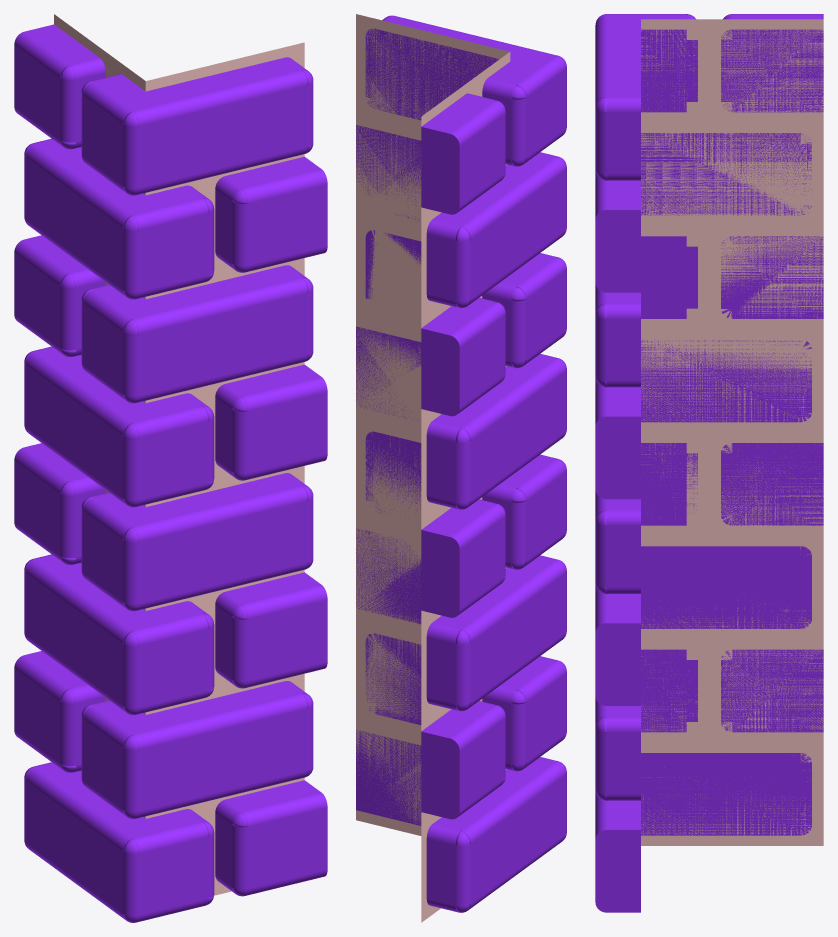
File: convex_1.dae
The picture shows the model from 3 angles, left to right: view 1: azimuth 30°, elevation 25°; view 2: azimuth 150°, elevation 25°; view 3: azimuth 270°, elevation 25°; orthographic projection. The views are drawn at different scales.
Parts seen in each view (by area): view 1: corner_convex_2 (×8), brick_half (×8), group_2 (×8), group_10 (×4), group_19 (×8), group_3 (×8), group_18 (×4), group_7 (×4), group_8 (×4), group_14 (×5), group_15 (×4), group_6 (×4); view 2: corner_convex_2 (×8), brick_half (×8), group_8 (×8), group_14 (×5), group_2 (×4), group_15 (×4), group_9 (×4), group_5 (×4), group_6 (×4), group_10 (×4), group_13 (×4), group_11 (+1 smaller); view 3: corner_convex_2 (×8), brick_half (×8), group_8 (×4), group_14 (×4), group_1 (×4), group_9 (×4), group_4 (×4), group_18 (×4), group_10.
Part boxes in pixels (x1=…): corner_convex_2 (×8): x1=26, y1=57, x2=307, y2=915; brick_half (×8): x1=14, y1=24, x2=327, y2=888; group_2 (×8): x1=26, y1=144, x2=307, y2=851; group_10 (×4): x1=133, y1=70, x2=307, y2=749; group_19 (×8): x1=60, y1=78, x2=248, y2=889; group_3 (×8): x1=123, y1=124, x2=138, y2=916; group_18 (×4): x1=242, y1=169, x2=327, y2=826; group_7 (×4): x1=133, y1=198, x2=208, y2=853; group_8 (×4): x1=145, y1=42, x2=304, y2=714; group_14 (×5): x1=54, y1=14, x2=304, y2=895; group_15 (×4): x1=14, y1=31, x2=69, y2=700; group_6 (×4): x1=83, y1=82, x2=132, y2=747; corner_convex_2 (×8): x1=365, y1=16, x2=565, y2=905; brick_half (×8): x1=356, y1=94, x2=504, y2=825; group_8 (×8): x1=356, y1=14, x2=509, y2=922; group_14 (×5): x1=356, y1=76, x2=476, y2=835; group_2 (×4): x1=461, y1=157, x2=565, y2=843; group_15 (×4): x1=450, y1=101, x2=504, y2=750; group_9 (×4): x1=455, y1=239, x2=470, y2=906; group_5 (×4): x1=511, y1=98, x2=526, y2=764; group_6 (×4): x1=517, y1=56, x2=565, y2=701; group_10 (×4): x1=468, y1=230, x2=565, y2=909; group_13 (×4): x1=426, y1=219, x2=460, y2=845; group_11: x1=482, y1=78, x2=516, y2=98; corner_convex_2 (×8): x1=607, y1=15, x2=811, y2=835; brick_half (×8): x1=595, y1=15, x2=823, y2=912; group_8 (×4): x1=641, y1=122, x2=823, y2=845; group_14 (×4): x1=709, y1=19, x2=823, y2=742; group_1 (×4): x1=641, y1=19, x2=709, y2=742; group_9 (×4): x1=595, y1=107, x2=606, y2=793; group_4 (×4): x1=607, y1=97, x2=640, y2=732; group_18 (×4): x1=595, y1=176, x2=606, y2=840; group_10: x1=595, y1=15, x2=606, y2=106.
Size of the model in its own units: 19.69 by 19.69 by 78.74.
